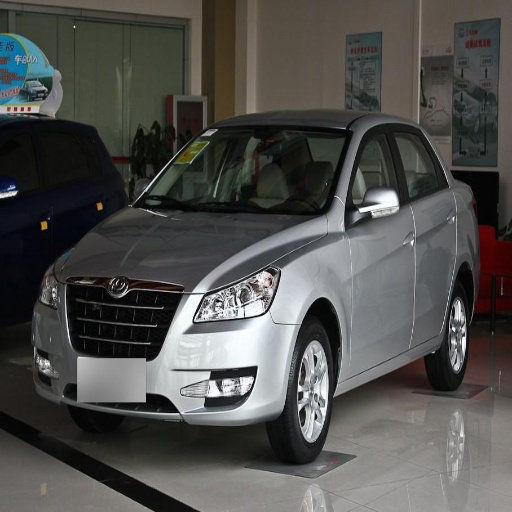front_bumper: (33, 276, 298, 427)
front_glass: (135, 128, 352, 216)
front_left_door: (348, 124, 417, 376)
